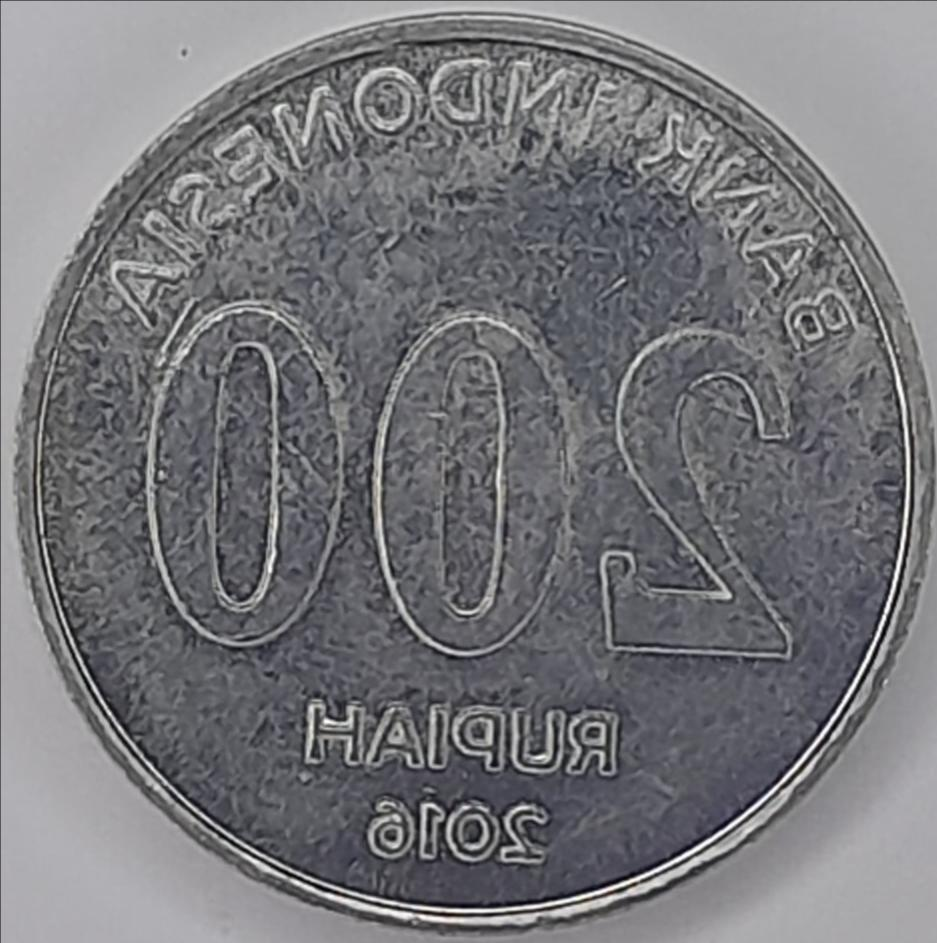coin_200_e2016: (0, 16, 937, 943)
